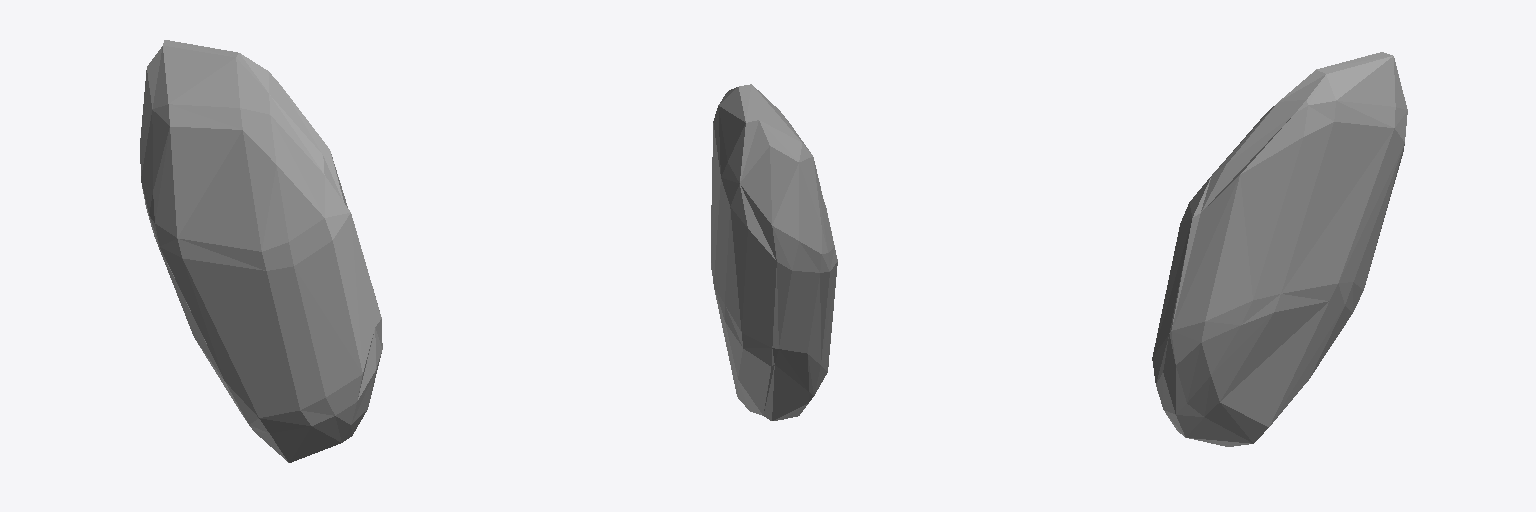
The model's file is rock1.obj.
The picture shows the model from 3 angles: view 1: azimuth 30°, elevation 25°; view 2: azimuth 150°, elevation 25°; view 3: azimuth 270°, elevation 25°; orthographic projection.
Parts seen in each view (by area): view 1: Cube2_sep48; view 2: Cube2_sep48; view 3: Cube2_sep48.
Part boxes in pixels (x1,y1,x2,y2): Cube2_sep48: (140, 40, 382, 462); Cube2_sep48: (711, 84, 837, 420); Cube2_sep48: (1152, 52, 1407, 446).
Size of the model in its own units: 0.5354 by 1.18 by 0.7352.